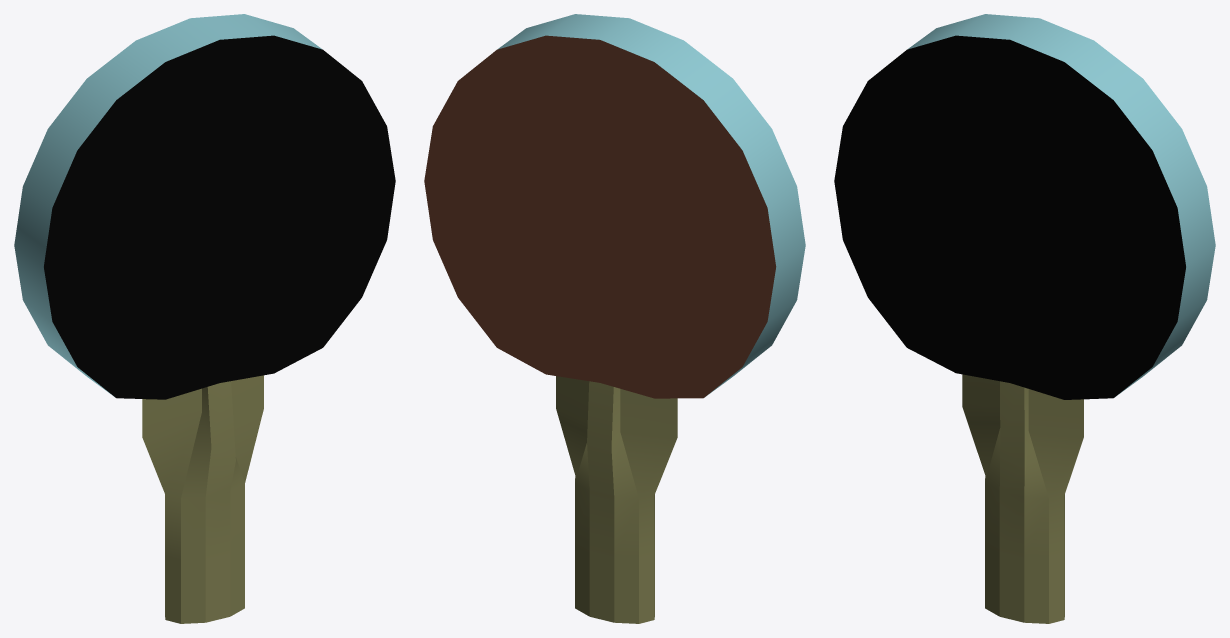
Rendered from Racket1.fbx.
3 views of the same model, side by side, from view 1: azimuth 30°, elevation 25°; view 2: azimuth 150°, elevation 25°; view 3: azimuth 330°, elevation 25° (orthographic).
Visible parts, largest first — view 1: pCylinder1, pCylinder2; view 2: pCylinder1, pCylinder2; view 3: pCylinder1, pCylinder2.
Part boxes in pixels (x1,y1,x2,y2): pCylinder1: (14,14,395,399); pCylinder2: (142,375,263,623); pCylinder1: (424,14,805,398); pCylinder2: (556,376,677,623); pCylinder1: (834,14,1215,399); pCylinder2: (962,374,1083,623).
Size of the model in its own units: 2.94 by 4.65 by 0.4535.
